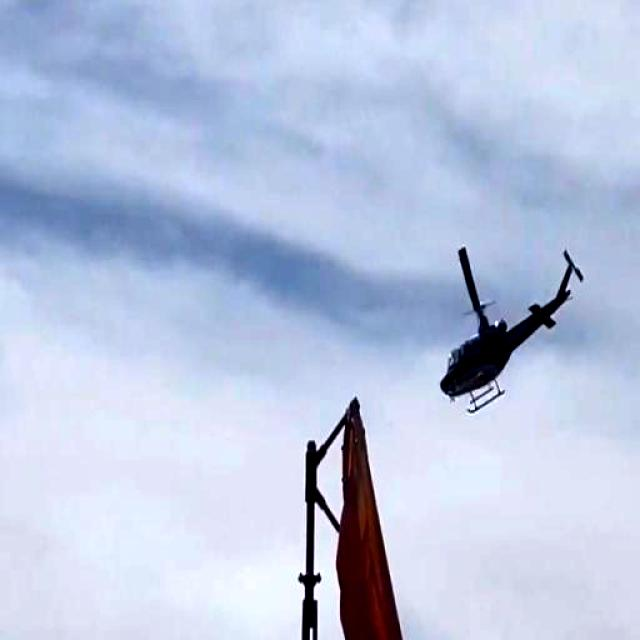drone: (431, 235, 598, 429)
